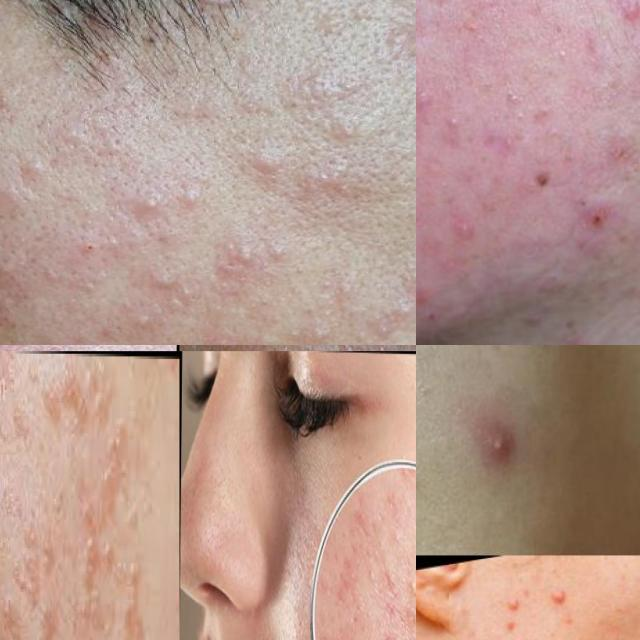acne_scars: (383, 567, 400, 616), (448, 630, 491, 640)
comedone: (23, 144, 73, 192), (267, 229, 314, 280), (59, 270, 113, 314), (439, 100, 475, 152), (111, 309, 151, 345), (132, 194, 167, 228), (174, 183, 207, 219), (313, 318, 348, 345), (154, 269, 183, 289), (392, 525, 409, 553), (407, 567, 416, 608), (367, 561, 377, 587)
flat_wart: (0, 357, 131, 497), (51, 516, 147, 640), (0, 502, 69, 640)
pustule: (536, 574, 578, 628), (478, 425, 518, 475), (487, 589, 527, 621)
